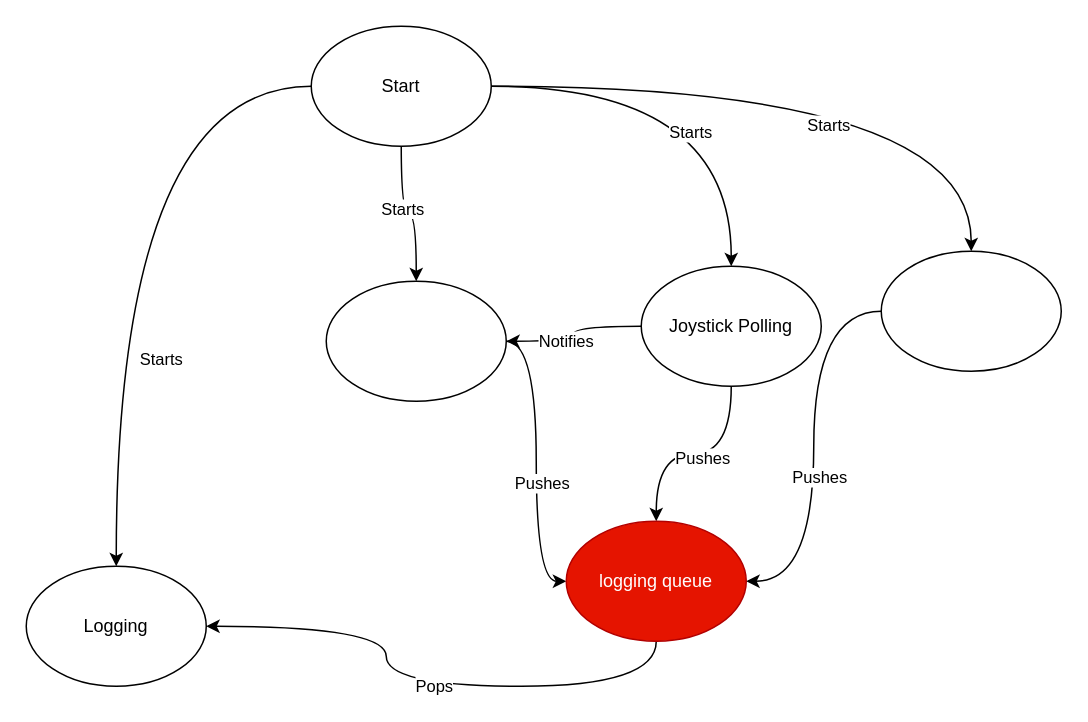
The diagram is 1088 pixels wide and 722 high, and some of its shapes have lost their labels. Here are the shapes that lost their labels. From the top down, the centre of each, then its label:
At point 970,310: "Buttons Polling".
At point 415,340: "Mixer".
